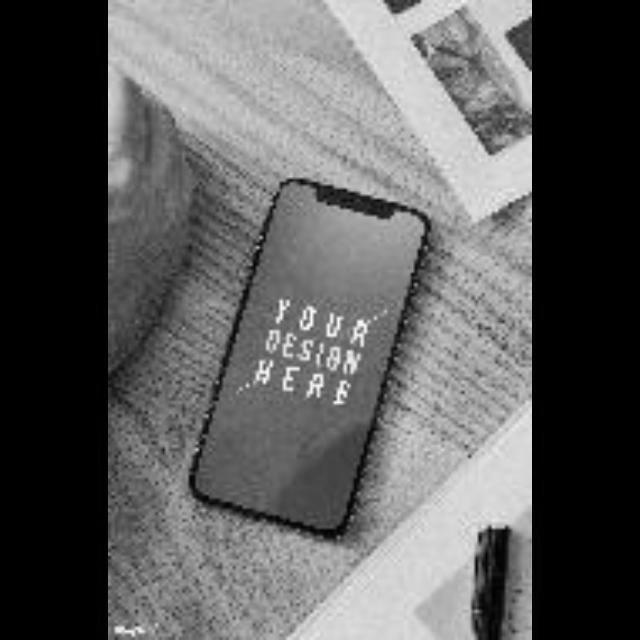fake: (178, 168, 429, 537)
